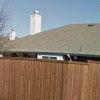Chimney: (27, 2, 48, 33)
